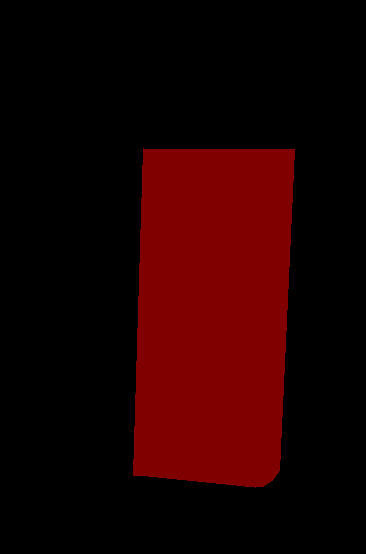sign: (133, 148, 294, 487)
